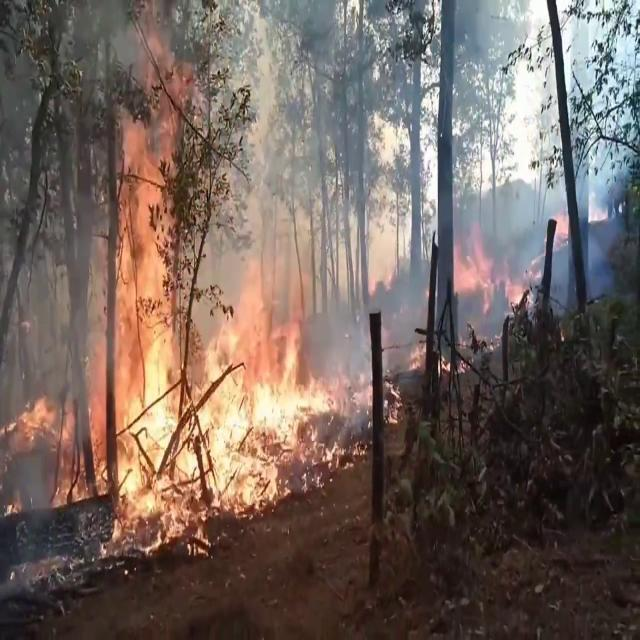Fire: (2, 296, 336, 528), (100, 115, 225, 528), (451, 220, 501, 314)
Smoke: (343, 0, 638, 316)
